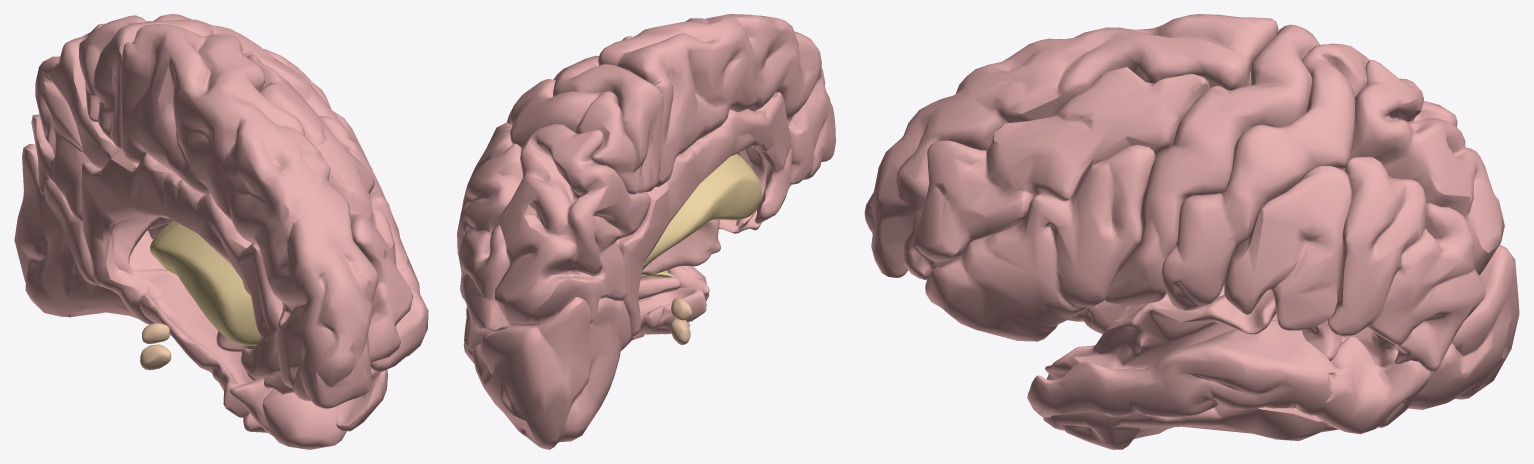
File: nervous-left.v1.glb
3 views of the same model, side by side, from view 1: azimuth 30°, elevation 25°; view 2: azimuth 150°, elevation 25°; view 3: azimuth 270°, elevation 25° (orthographic). The views are drawn at different scales.
Parts seen in each view (by area): view 1: left_superior_frontal_gyrus, left_cingulate_gyrus, left_occipital_lobe, left_middle_frontal_gyrus, left_superior_parietal_lobule, left_lateral_ventricle, left_precentral_gyrus, left_parahippocampal_gyrus, left_inferior_frontal_gyrus, left_inferior_temporal_gyrus, white_matter_of_left_cerebral_hemisphere, left_postcentral_gyrus (+4 smaller); view 2: left_superior_frontal_gyrus, left_superior_parietal_lobule, left_occipital_lobe, left_cingulate_gyrus, left_angular_gyrus, left_postcentral_gyrus, left_precentral_gyrus, left_lateral_ventricle, left_internal_capsule, left_parahippocampal_gyrus, white_matter_of_left_cerebral_hemisphere, left_supramarginal_gyrus (+3 smaller); view 3: left_superior_frontal_gyrus, left_middle_frontal_gyrus, left_middle_temporal_gyrus, left_inferior_frontal_gyrus, left_angular_gyrus, left_postcentral_gyrus, left_precentral_gyrus, left_supramarginal_gyrus, left_superior_parietal_lobule, white_matter_of_left_cerebral_hemisphere, left_occipital_lobe, left_inferior_temporal_gyrus (+1 smaller).
Boxes of the visible parts, box(x1,y1,x2,y2) form: left_superior_frontal_gyrus: box(120, 24, 378, 408); left_cingulate_gyrus: box(81, 150, 282, 378); left_occipital_lobe: box(14, 144, 152, 318); left_middle_frontal_gyrus: box(247, 54, 413, 362); left_superior_parietal_lobule: box(31, 21, 152, 221); left_lateral_ventricle: box(150, 221, 259, 345); left_precentral_gyrus: box(93, 19, 357, 151); left_parahippocampal_gyrus: box(139, 294, 252, 417); left_inferior_frontal_gyrus: box(319, 116, 428, 371); left_inferior_temporal_gyrus: box(262, 389, 346, 449); white_matter_of_left_cerebral_hemisphere: box(112, 216, 294, 394); left_postcentral_gyrus: box(79, 14, 372, 170); left_superior_frontal_gyrus: box(598, 14, 835, 186); left_superior_parietal_lobule: box(495, 124, 650, 326); left_occipital_lobe: box(472, 297, 631, 449); left_cingulate_gyrus: box(616, 92, 791, 350); left_angular_gyrus: box(457, 143, 522, 350); left_postcentral_gyrus: box(506, 79, 637, 194); left_precentral_gyrus: box(553, 55, 663, 192); left_lateral_ventricle: box(641, 154, 761, 278); left_internal_capsule: box(641, 219, 720, 275); left_parahippocampal_gyrus: box(637, 287, 706, 334); white_matter_of_left_cerebral_hemisphere: box(638, 147, 791, 300); left_supramarginal_gyrus: box(470, 123, 512, 178); left_superior_frontal_gyrus: box(864, 14, 1279, 277); left_middle_frontal_gyrus: box(902, 67, 1209, 279); left_middle_temporal_gyrus: box(1027, 320, 1430, 434); left_inferior_frontal_gyrus: box(925, 145, 1155, 341); left_angular_gyrus: box(1327, 156, 1485, 371); left_postcentral_gyrus: box(1162, 43, 1369, 311); left_precentral_gyrus: box(1104, 24, 1319, 305); left_supramarginal_gyrus: box(1224, 166, 1352, 330); left_superior_parietal_lobule: box(1342, 60, 1504, 275); white_matter_of_left_cerebral_hemisphere: box(1045, 285, 1398, 378); left_occipital_lobe: box(1408, 244, 1519, 409); left_inferior_temporal_gyrus: box(1043, 374, 1338, 449).
Bounding box in the file's own units: 0.0695 × 0.117 × 0.18.
